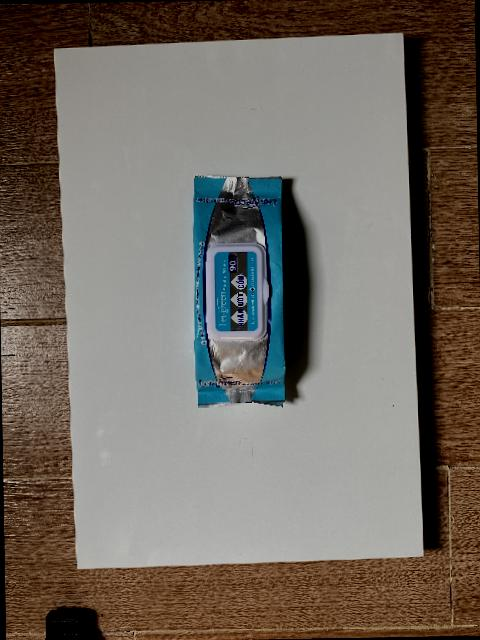Let-green_alcohol_wipes: (193, 176, 286, 409)
